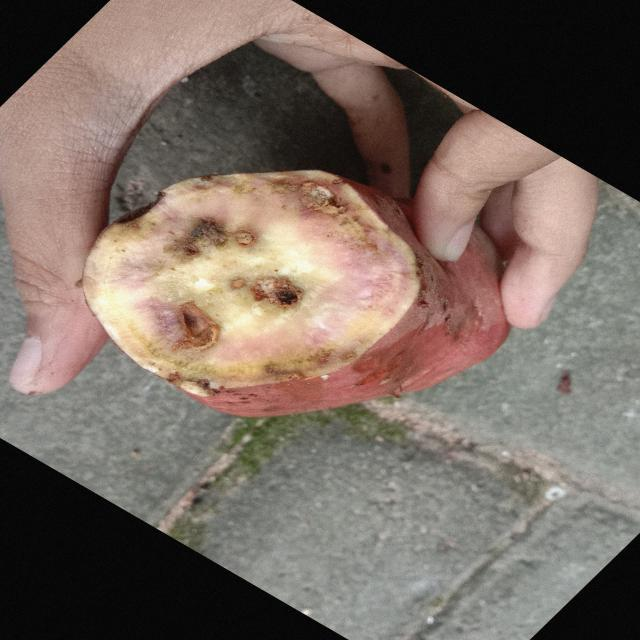Sick Sweet Potato_Tuber Rot: (83, 170, 420, 395)
